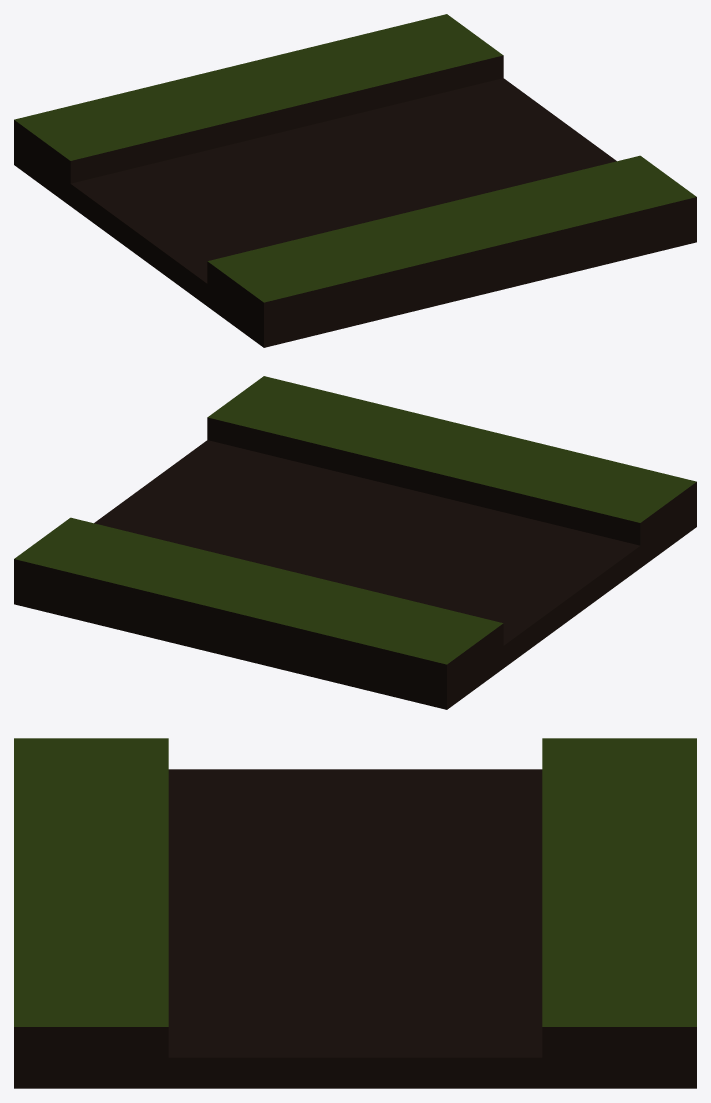
Rendered from tuileHPDroit.fbx.
3 views of the same model, one above another, from view 1: azimuth 30°, elevation 25°; view 2: azimuth 150°, elevation 25°; view 3: azimuth 270°, elevation 25° (orthographic). The views are drawn at different scales.
Visible parts, largest first — view 1: tuileDroit; view 2: tuileDroit; view 3: tuileDroit.
Boxes of the visible parts, x1=… form: tuileDroit: x1=14, y1=14, x2=696, y2=347; tuileDroit: x1=14, y1=376, x2=696, y2=709; tuileDroit: x1=14, y1=738, x2=696, y2=1088.
Bounding box in the file's own units: 20 × 2 × 20.
